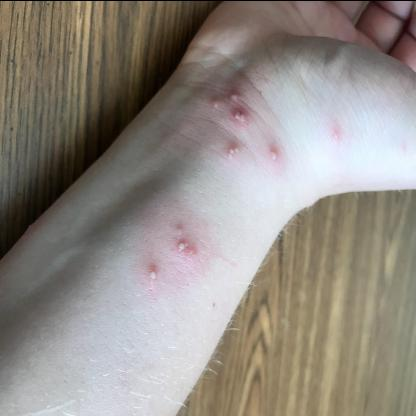Fire ant: (209, 86, 252, 159), (170, 222, 200, 262), (268, 140, 284, 172), (143, 262, 161, 288), (328, 118, 344, 146), (396, 137, 410, 161)
